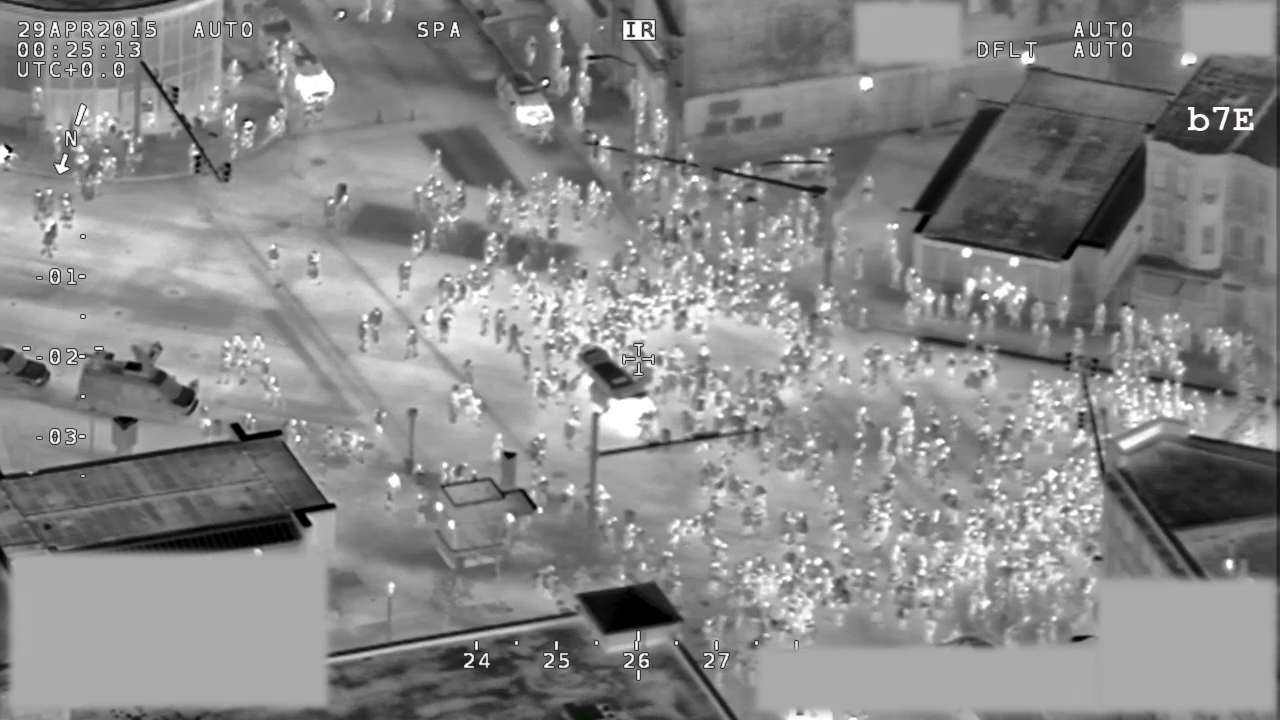vehicle: (71, 335, 205, 429), (564, 340, 665, 441), (267, 33, 342, 112), (491, 65, 561, 145)
